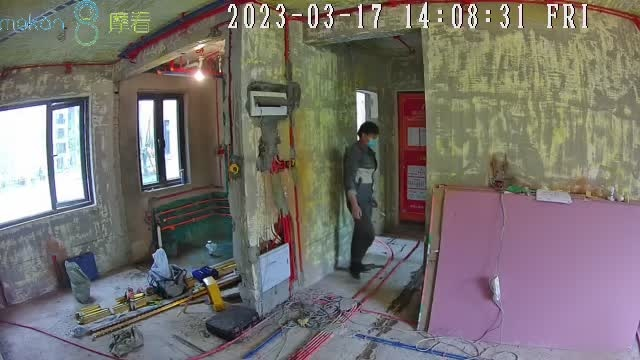people: (343, 121, 379, 280)
window: (1, 101, 94, 227), (139, 95, 184, 191)
